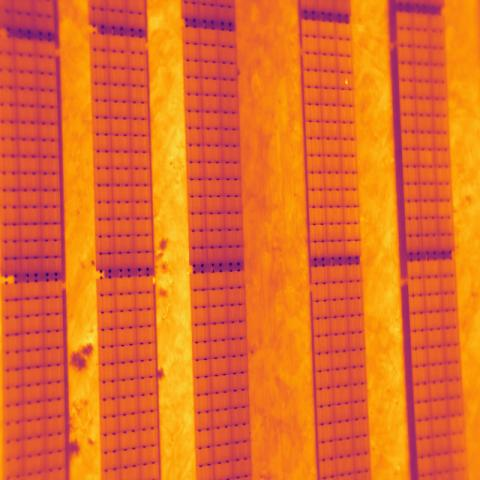fault: (418, 150, 434, 166)
